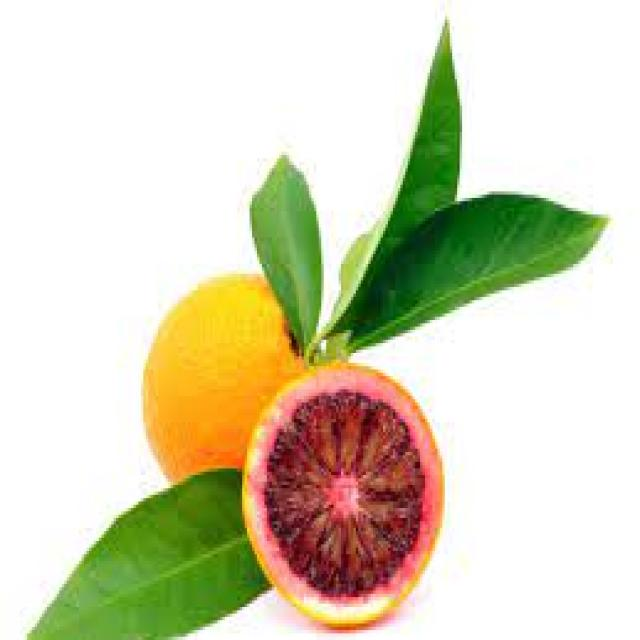orange: (143, 275, 320, 509)
